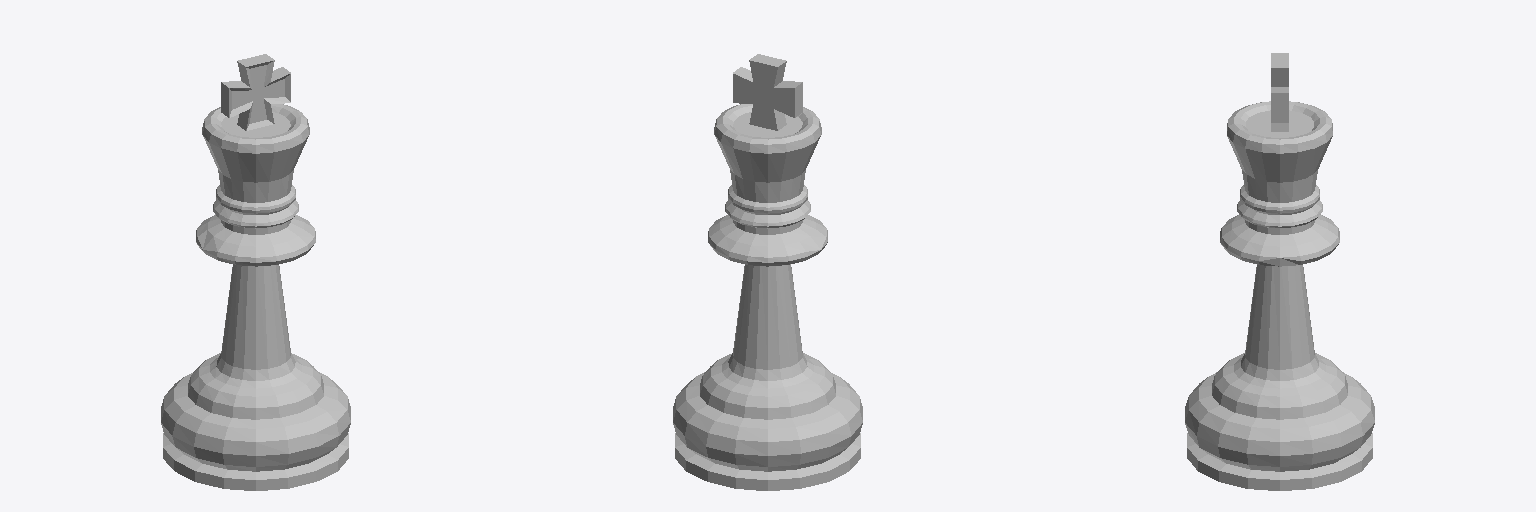
File: light_king.obj
3 renders of one model, left to right at view 1: azimuth 30°, elevation 25°; view 2: azimuth 150°, elevation 25°; view 3: azimuth 270°, elevation 25°, orthographic.
Visible parts, largest first — view 1: chess_set_light_king02; view 2: chess_set_light_king02; view 3: chess_set_light_king02.
Part boxes in pixels (x1,y1,x2,y2): chess_set_light_king02: (161,54,350,490); chess_set_light_king02: (673,54,862,490); chess_set_light_king02: (1185,53,1374,490).
Bounding box in the file's own units: 0.0394 × 0.0879 × 0.0388.